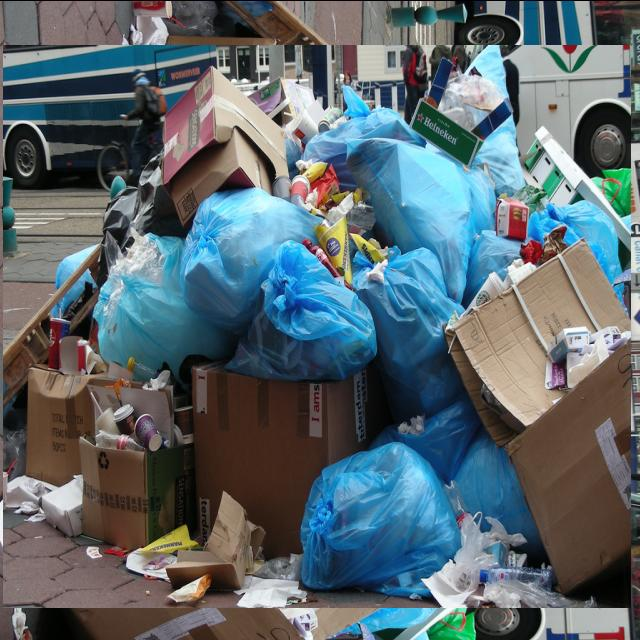garbage: (19, 27, 616, 624)
